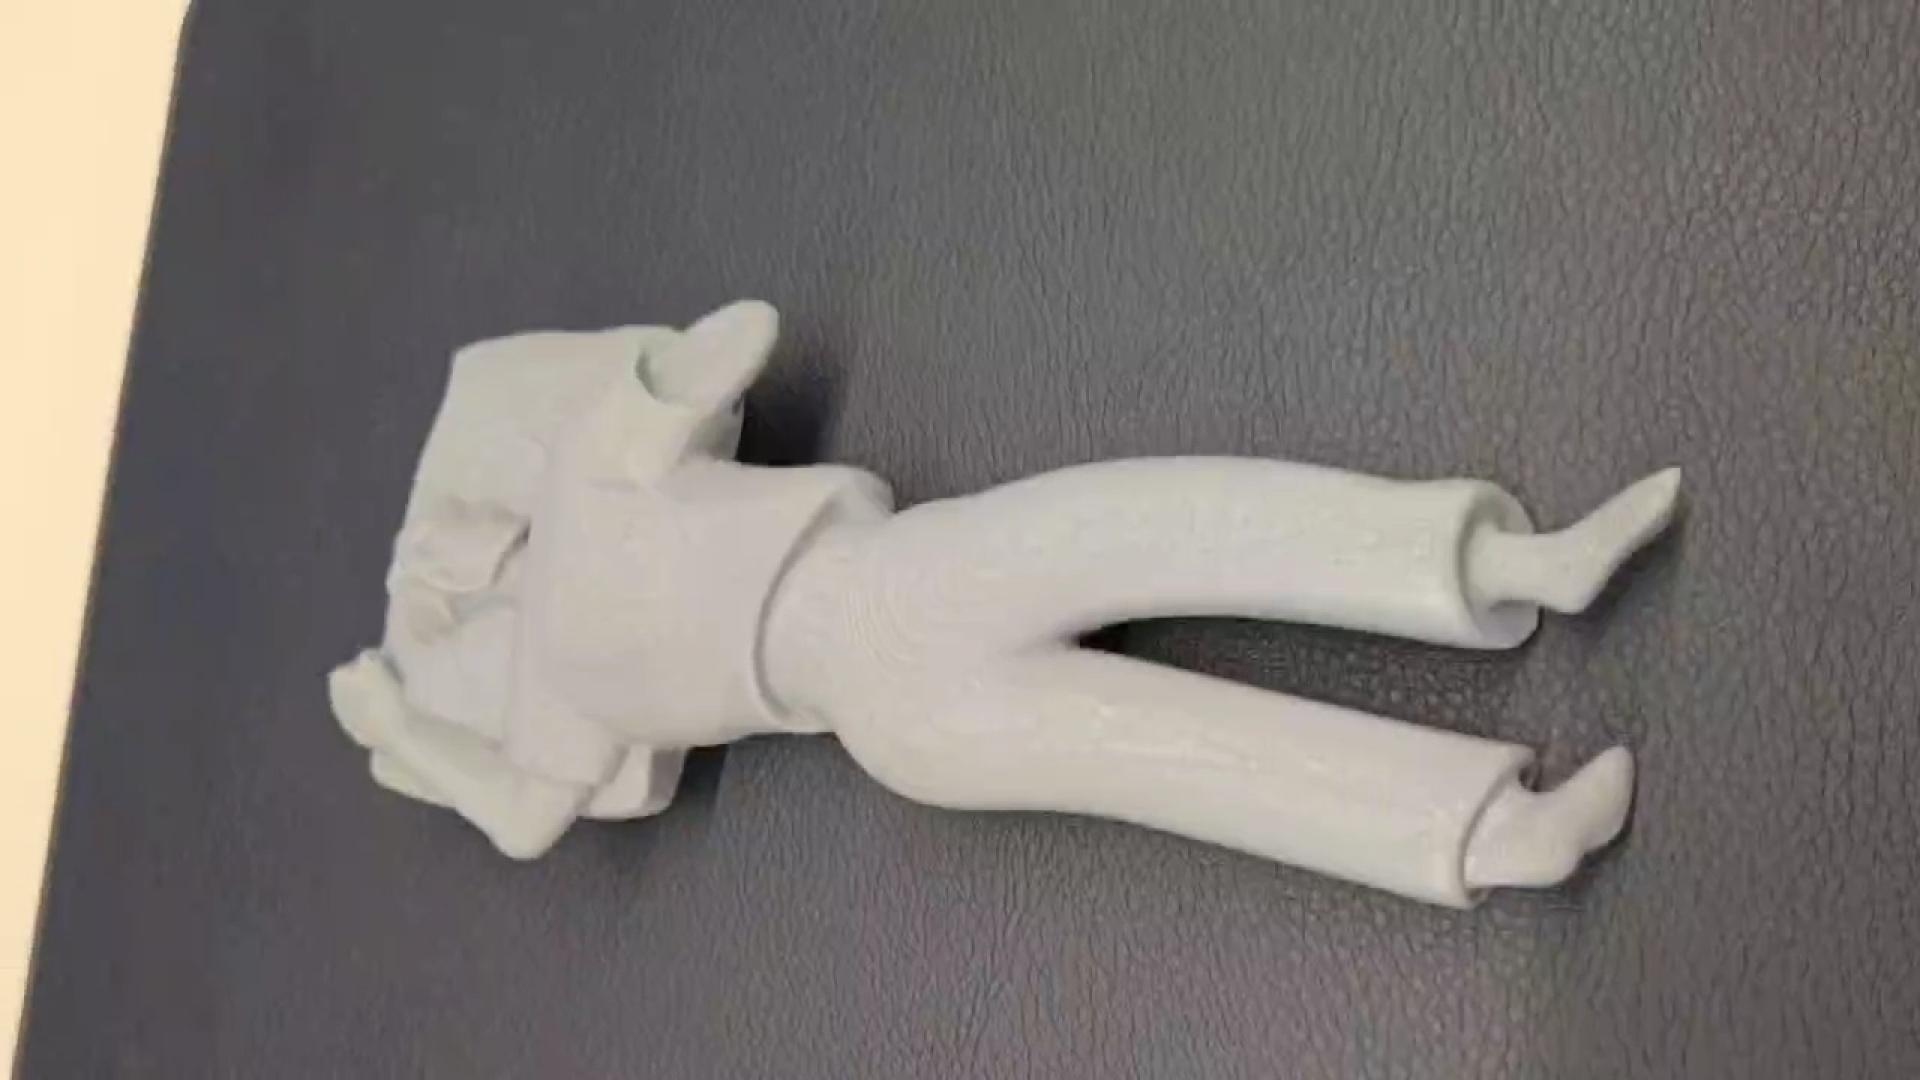Bad-style: (338, 298, 1683, 927)
